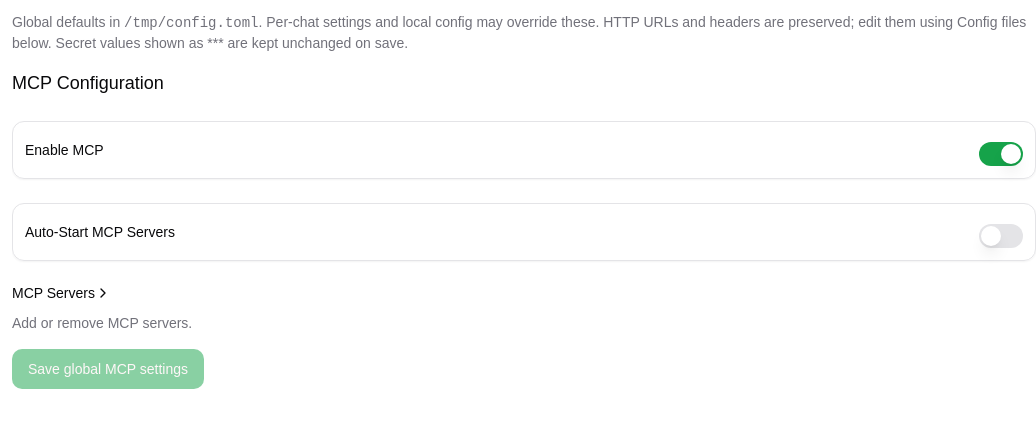
shows server validation errors and retains unsaved edits
The image size is (1036, 442).
Expected: the text "/tmp/config.toml" is shown, top-left (124, 15), bottom-right (258, 31)
Click the switch named "Auto-Start MCP Servers" in the row of "Auto-Start MCP Servers" at (1001, 236), box top-left (979, 224), bottom-right (1023, 248)
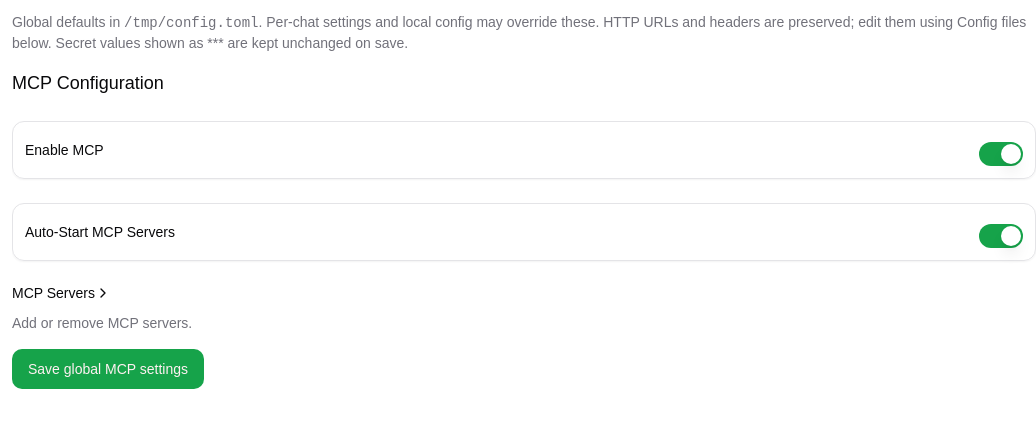
Click the button "Save global MCP settings" at (108, 369), box top-left (12, 349), bottom-right (204, 389)
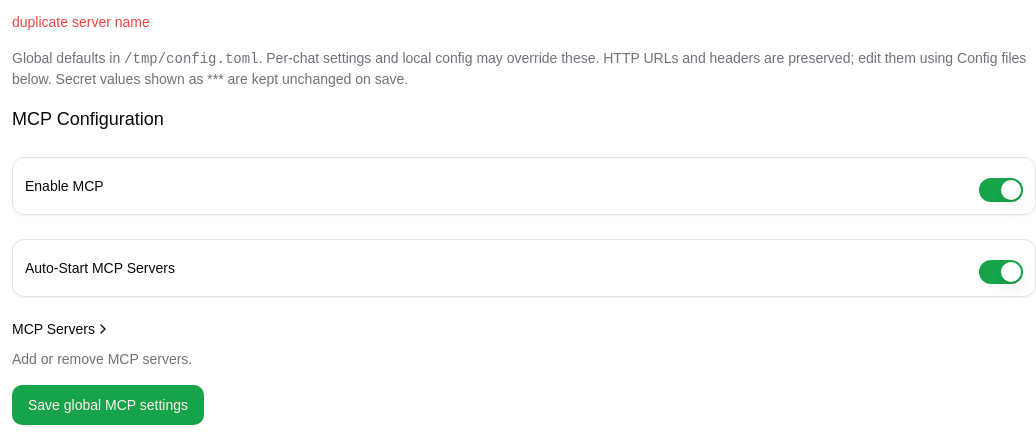
Now the switch named "Auto-Start MCP Servers" in the row of "Auto-Start MCP Servers" is checked, box top-left (979, 260), bottom-right (1023, 284)
Now the button "Save global MCP settings" is enabled, box top-left (12, 385), bottom-right (204, 425)
Now the message reads "duplicate server name", box top-left (12, 14), bottom-right (150, 30)
